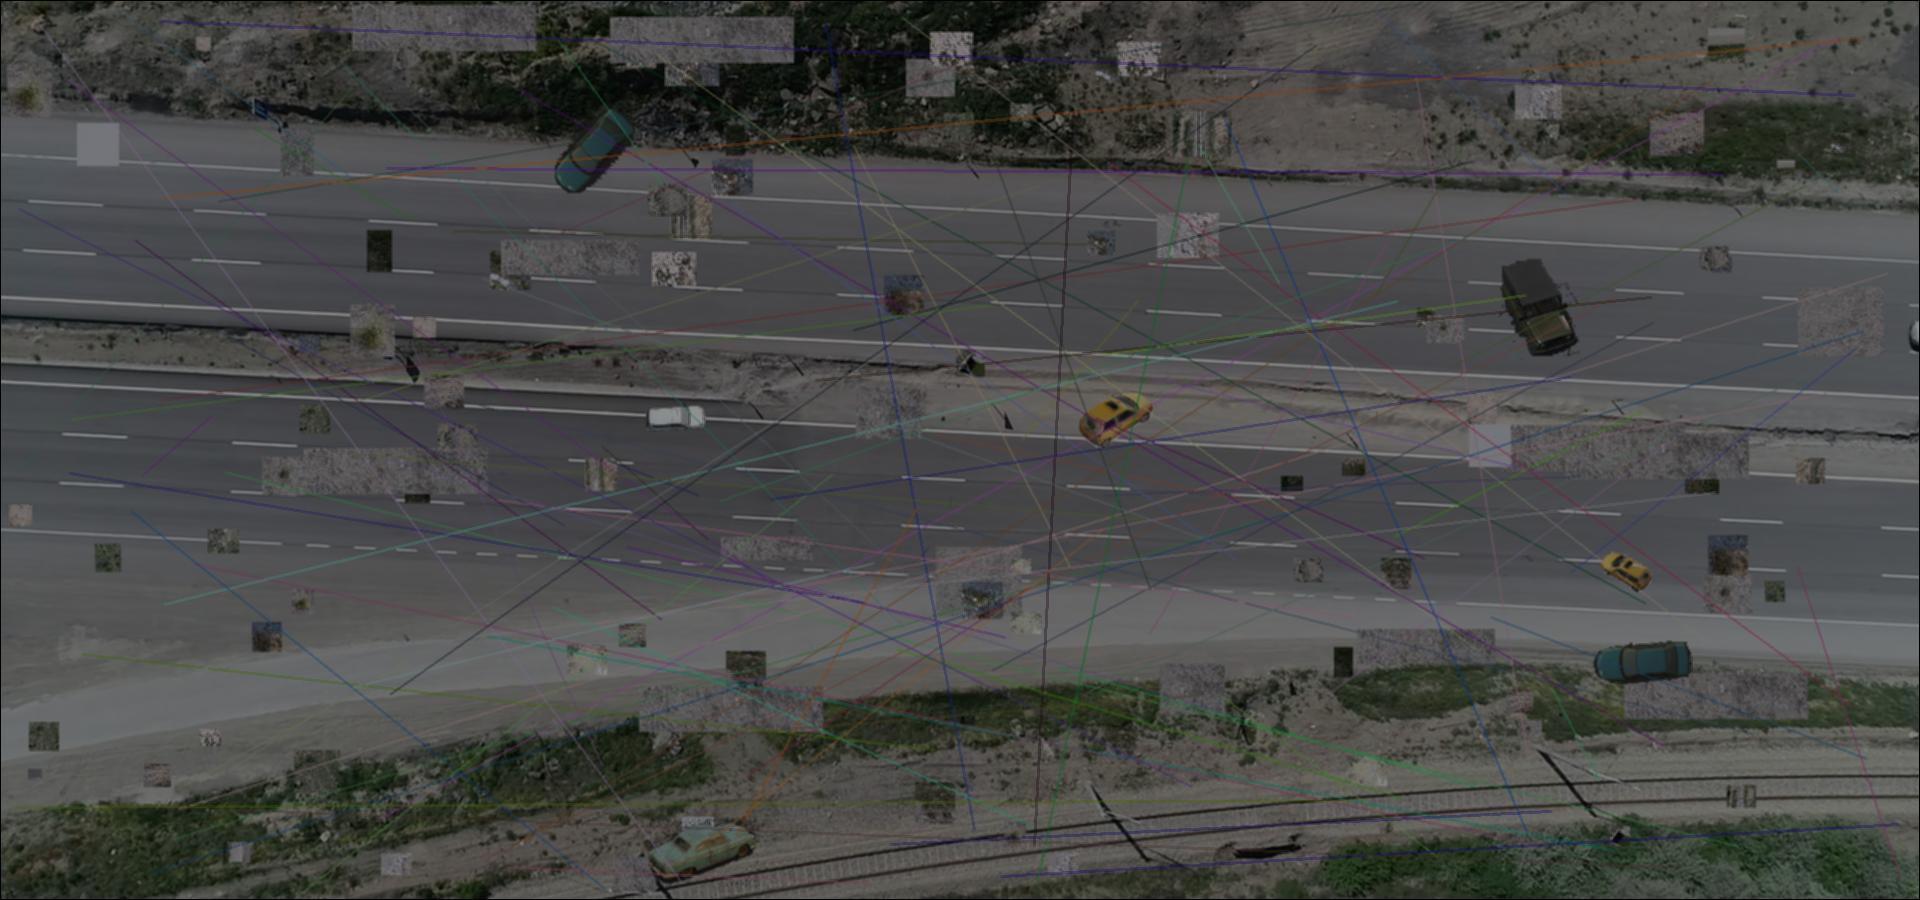arac: (1499, 260, 1580, 356), (649, 819, 759, 887), (555, 103, 636, 193), (1593, 640, 1692, 684), (1078, 393, 1153, 448), (1600, 550, 1652, 591), (644, 402, 707, 431)
